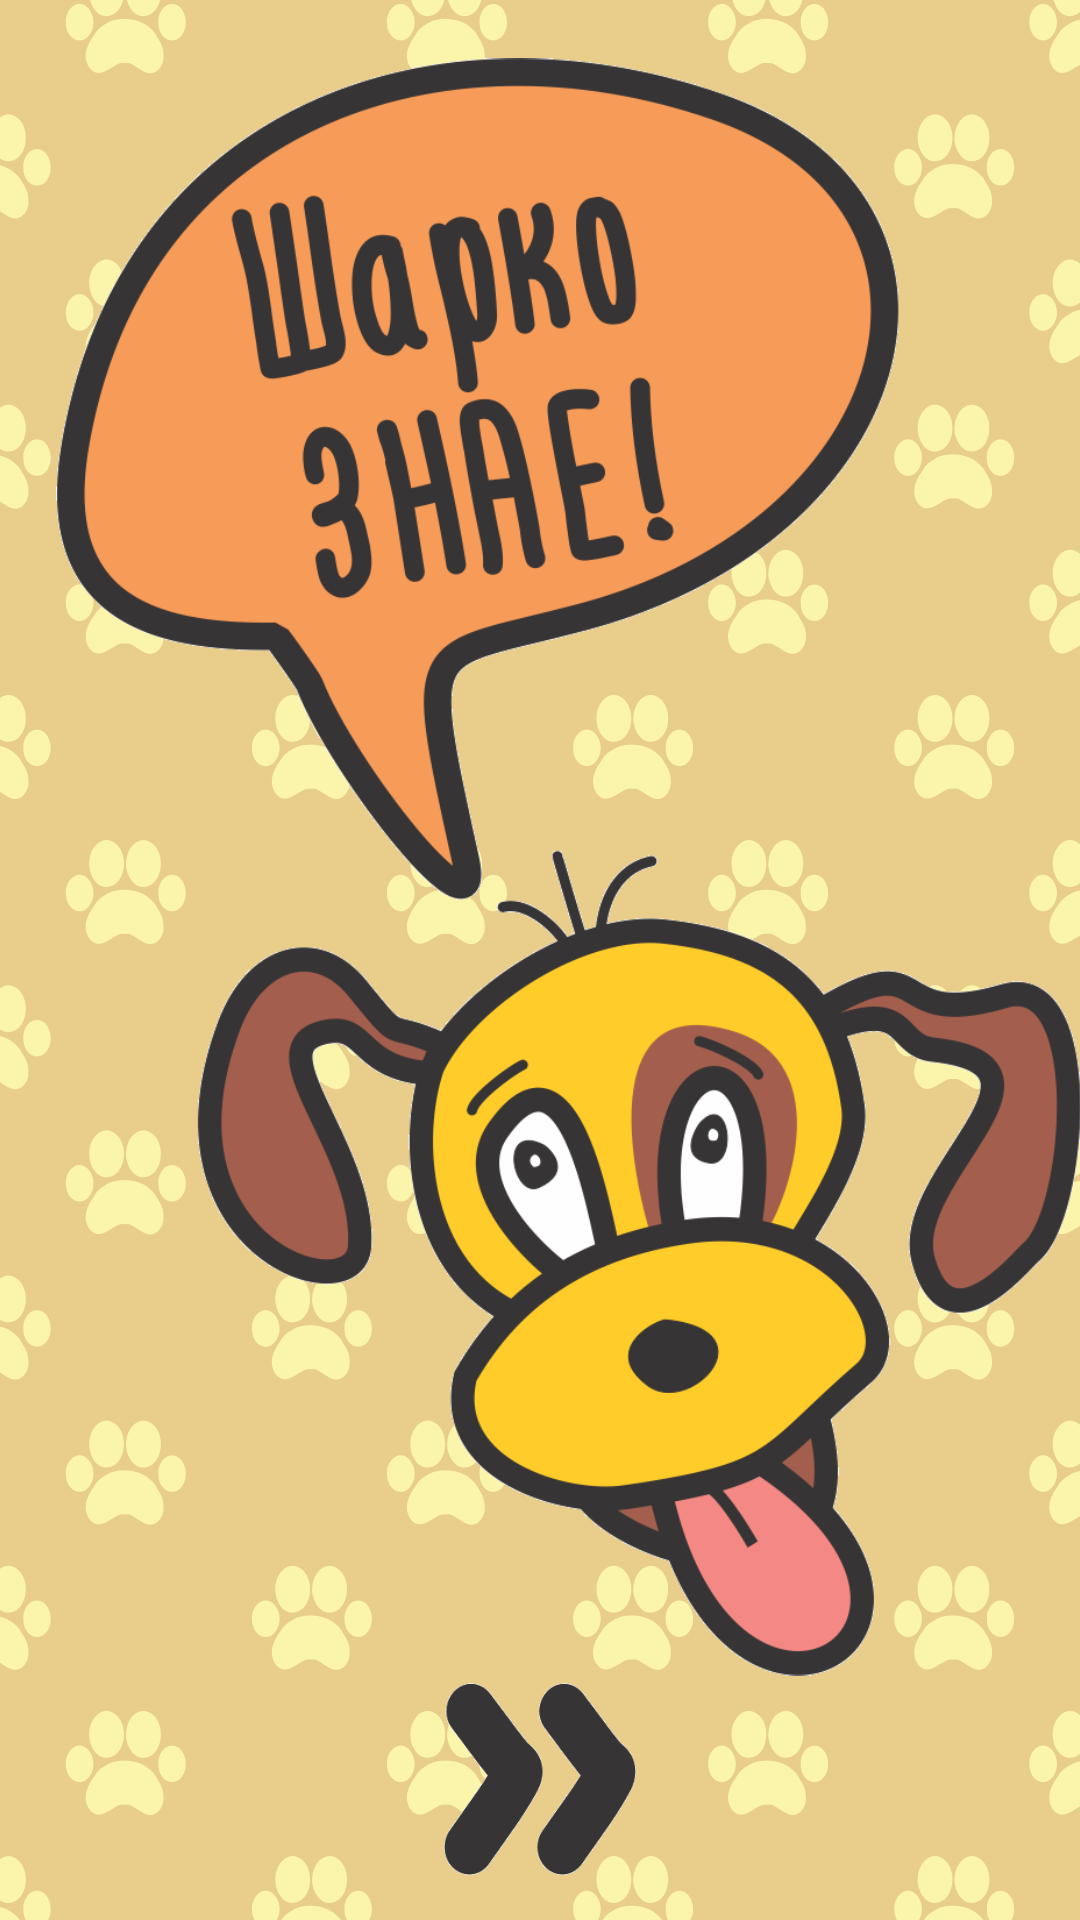

Point at icon controls on the screen. Image size 1080px x 1920px, points as (x,y).
next: (540,1779)
